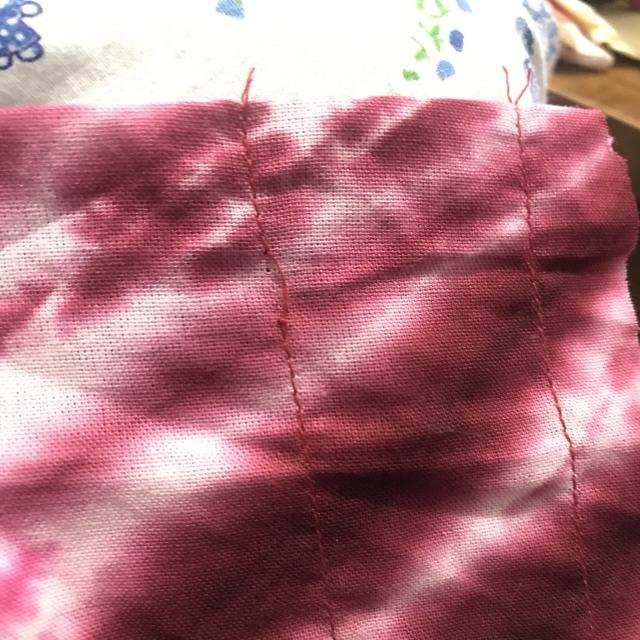good: (272, 370, 341, 442)
skip: (250, 238, 309, 332)
